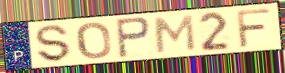2: (197, 11, 234, 53)
F: (234, 8, 273, 49)
M: (153, 14, 197, 55)
O: (75, 21, 113, 60)
P: (114, 16, 153, 59)
S: (34, 24, 72, 64)
